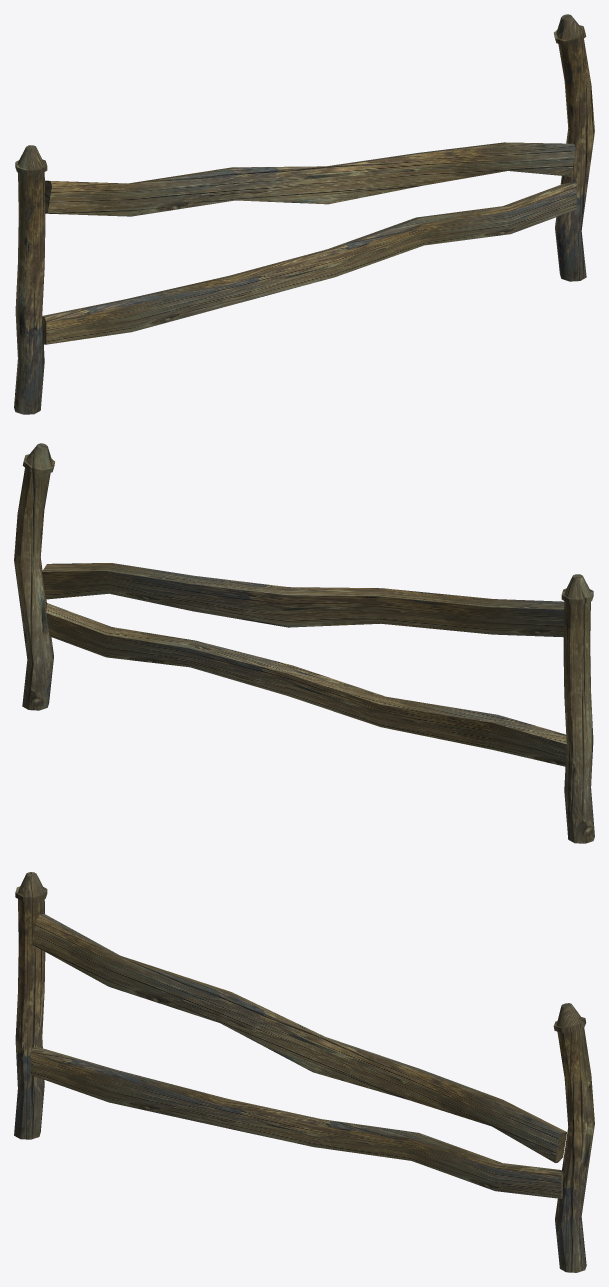
Rendered from Fence1_a.obj.
3 views of the same model, one above another, from view 1: azimuth 30°, elevation 25°; view 2: azimuth 150°, elevation 25°; view 3: azimuth 330°, elevation 25° (orthographic).
Visible parts, largest first — view 1: Skeleton; view 2: Skeleton; view 3: Skeleton.
Part boxes in pixels (x1,y1,x2,y2): Skeleton: [14, 14, 594, 414]; Skeleton: [14, 443, 594, 843]; Skeleton: [14, 872, 594, 1272].
Bounding box in the file's own units: 129 × 55.83 × 7.72.
